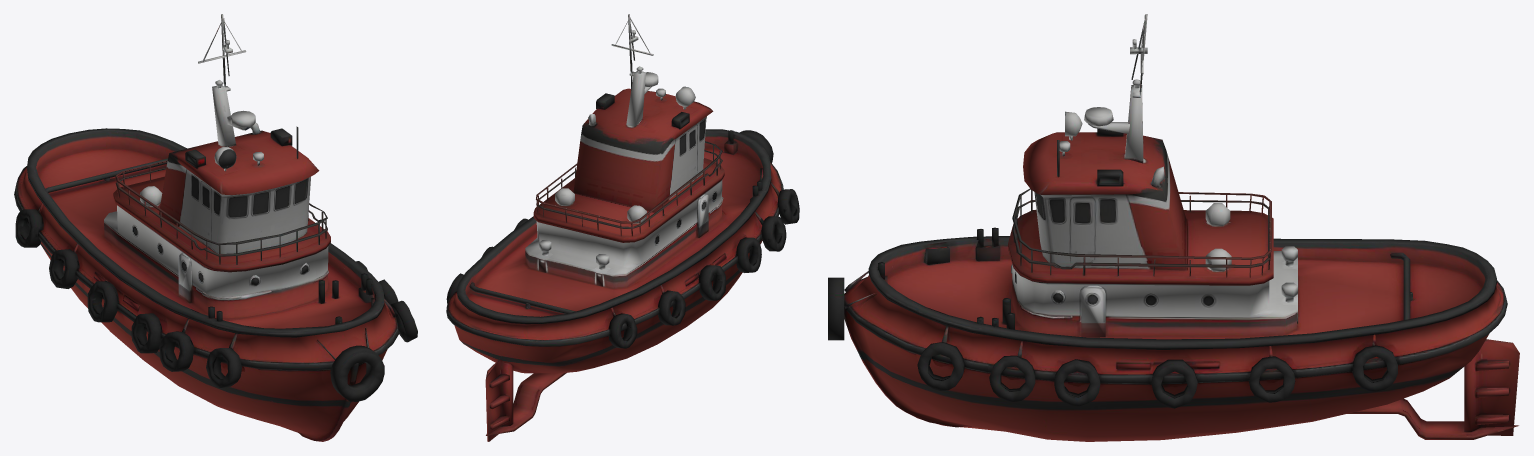
File: original_glb.glb
3 views of the same model, side by side, from view 1: azimuth 30°, elevation 25°; view 2: azimuth 150°, elevation 25°; view 3: azimuth 270°, elevation 25° (orthographic). The views are drawn at different scales.
Parts seen in each view (by area): view 1: Tugboat; view 2: Tugboat; view 3: Tugboat.
Boxes of the visible parts, bbox=[...] form: Tugboat: bbox=[14, 14, 417, 441]; Tugboat: bbox=[446, 14, 799, 441]; Tugboat: bbox=[828, 14, 1519, 441].
Size of the model in its own units: 0.4434 by 0.6699 by 0.998.
Materials: 1 (1 with a texture image).
